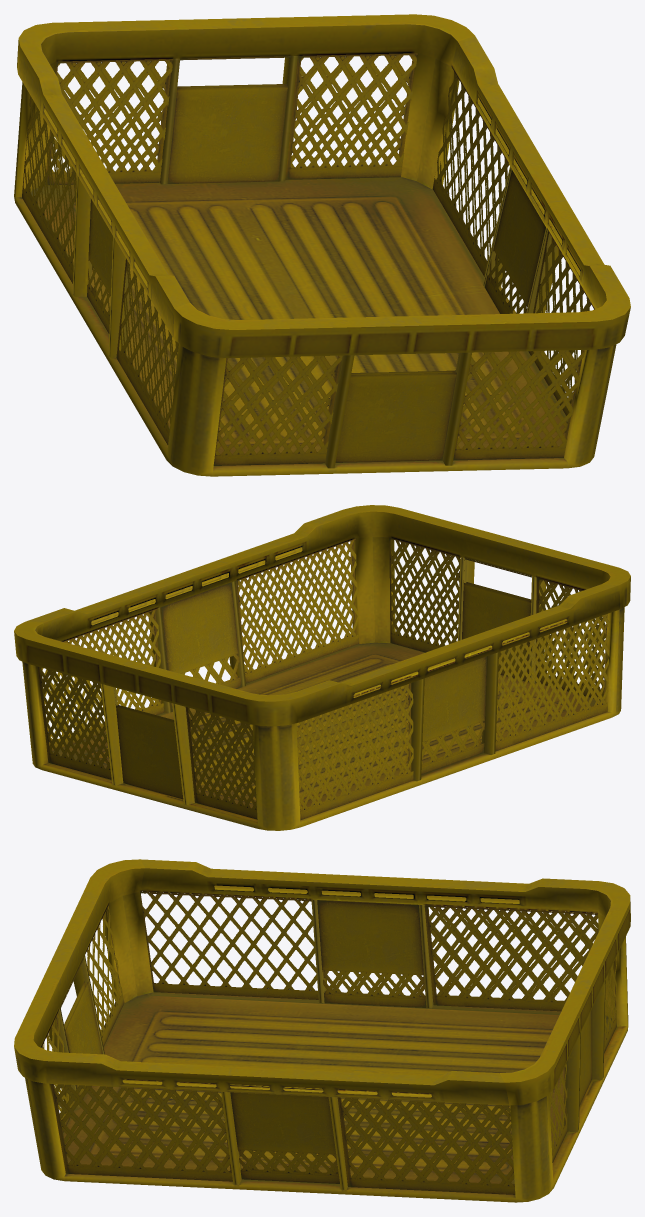
Rendered from PlasticTray.fbx.
3 renders of one model, top to bottom at view 1: azimuth 30°, elevation 25°; view 2: azimuth 150°, elevation 25°; view 3: azimuth 270°, elevation 25°, orthographic. The views are drawn at different scales.
Visible parts, largest first — view 1: LODGroup_1_MainMesh_3_SubMesh_1.025; view 2: LODGroup_1_MainMesh_3_SubMesh_1.025; view 3: LODGroup_1_MainMesh_3_SubMesh_1.025.
Part boxes in pixels (x1,y1,x2,y2): LODGroup_1_MainMesh_3_SubMesh_1.025: (14,14,630,476); LODGroup_1_MainMesh_3_SubMesh_1.025: (14,505,630,830); LODGroup_1_MainMesh_3_SubMesh_1.025: (14,859,630,1202).
Size of the model in its own units: 69.75 by 29.98 by 85.22.
